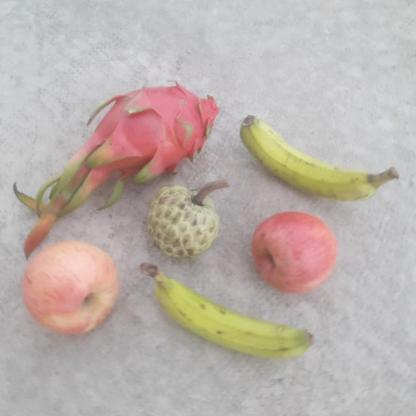annona: (141, 182, 226, 260)
apple: (20, 239, 125, 339), (250, 209, 340, 292)
banana: (143, 261, 314, 365), (238, 113, 400, 207)
pitaya: (79, 76, 230, 183)
